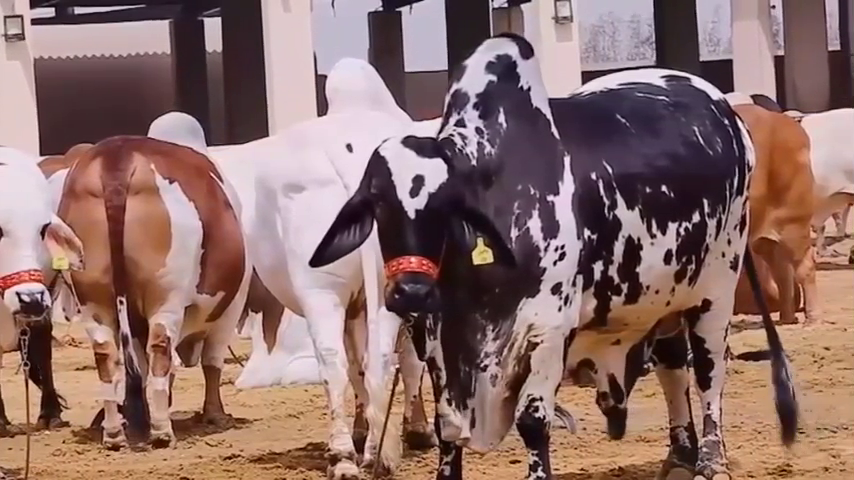bo: (299, 15, 817, 478), (240, 48, 465, 475), (40, 98, 249, 457), (4, 134, 103, 443), (714, 95, 829, 323), (784, 89, 854, 246)
